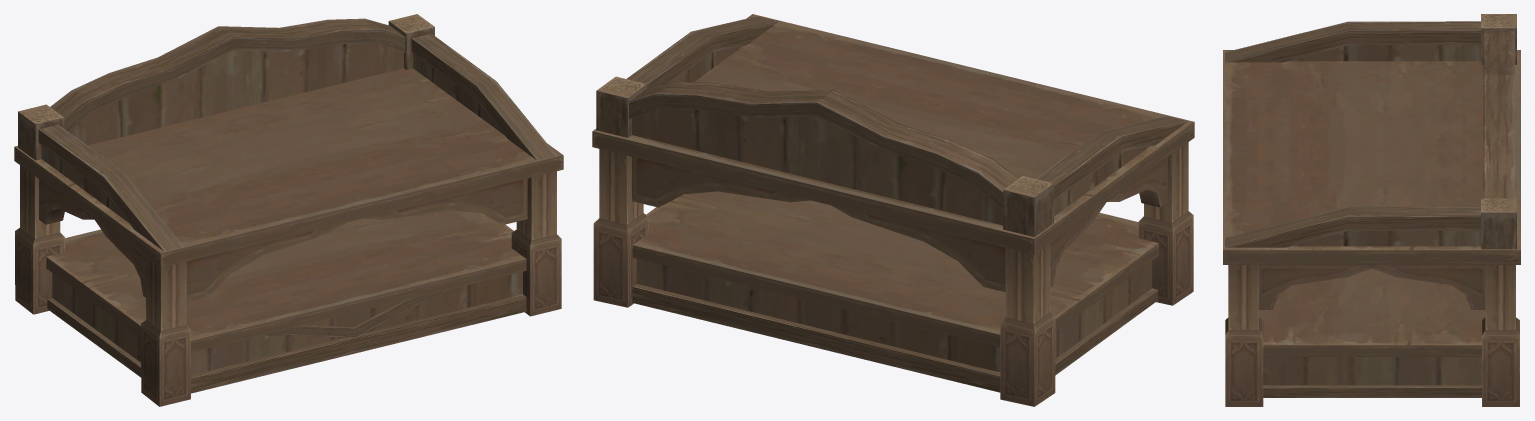
File: Homeworld_Interior_Xm_Cabinet_Prop_Scupboard_01_Lod0.fbx
The picture shows the model from 3 angles, left to right: view 1: azimuth 30°, elevation 25°; view 2: azimuth 150°, elevation 25°; view 3: azimuth 270°, elevation 25°; orthographic projection. The views are drawn at different scales.
Parts seen in each view (by area): view 1: Area_Xm_Prop_XKC_Chengshijiaju_03_Lod0; view 2: Area_Xm_Prop_XKC_Chengshijiaju_03_Lod0; view 3: Area_Xm_Prop_XKC_Chengshijiaju_03_Lod0.
Boxes of the visible parts, x1,y1,x2,y2 form: Area_Xm_Prop_XKC_Chengshijiaju_03_Lod0: (14,14,563,406); Area_Xm_Prop_XKC_Chengshijiaju_03_Lod0: (592,14,1194,406); Area_Xm_Prop_XKC_Chengshijiaju_03_Lod0: (1223,14,1520,406).
Bounding box in the file's own units: 2.07 × 1.11 × 1.3.
